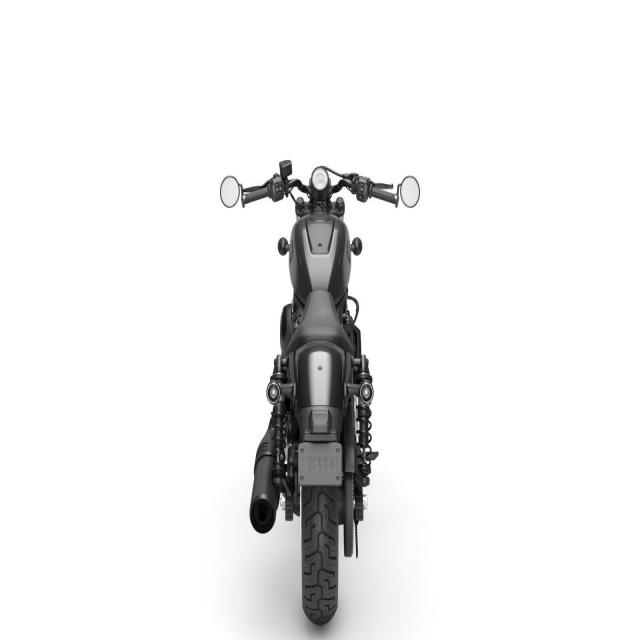Motorcycle: (220, 159, 420, 624)
